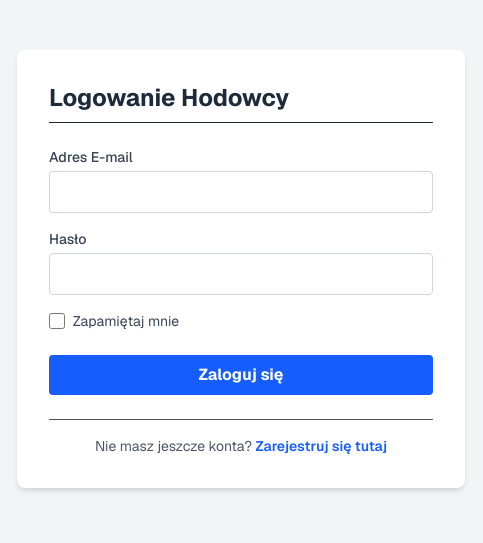
Scenario: Breeder Login Process › Should prevent user from logging in if their account is blocked
Step 1. Type "blocked.user@test.com" into the field named "email" → [241, 192], box [49,171,433,213]
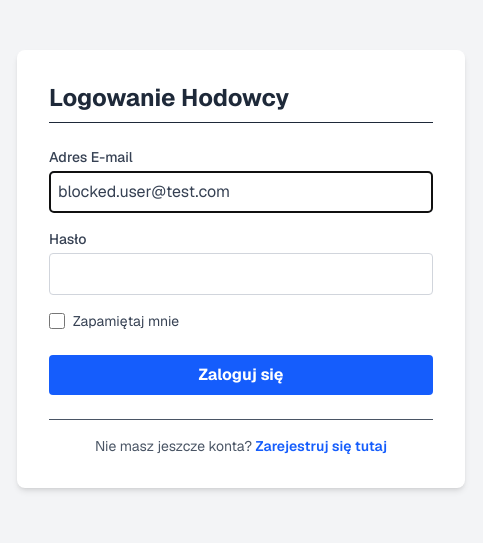
Step 2. Type "ValidPassword1!" into the password field named "password" → [241, 274], box [49,253,433,295]
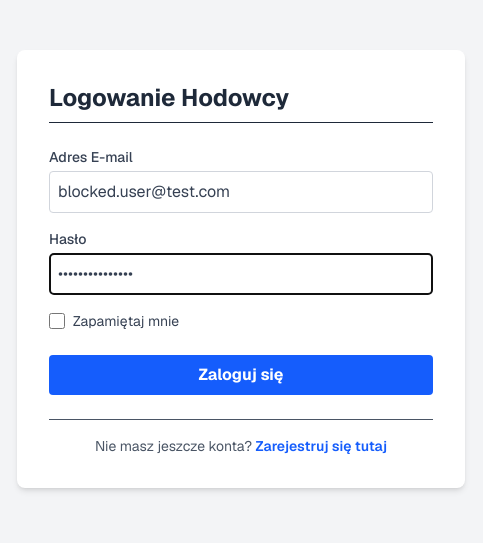
Step 3. Click the submit button → [241, 375], box [49,355,433,395]
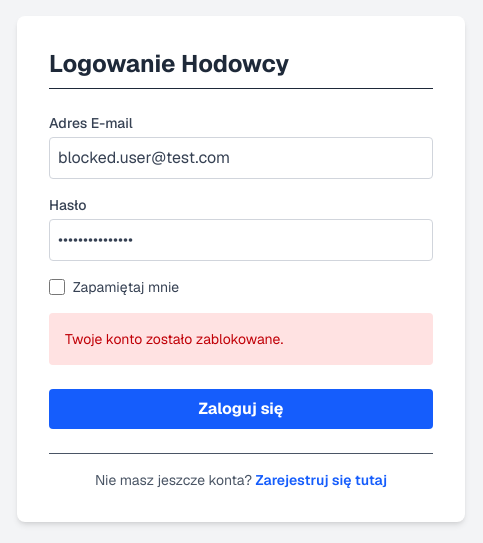
Result: the text "Twoje konto zostało zablokowane." is shown at [49,313,433,365]
